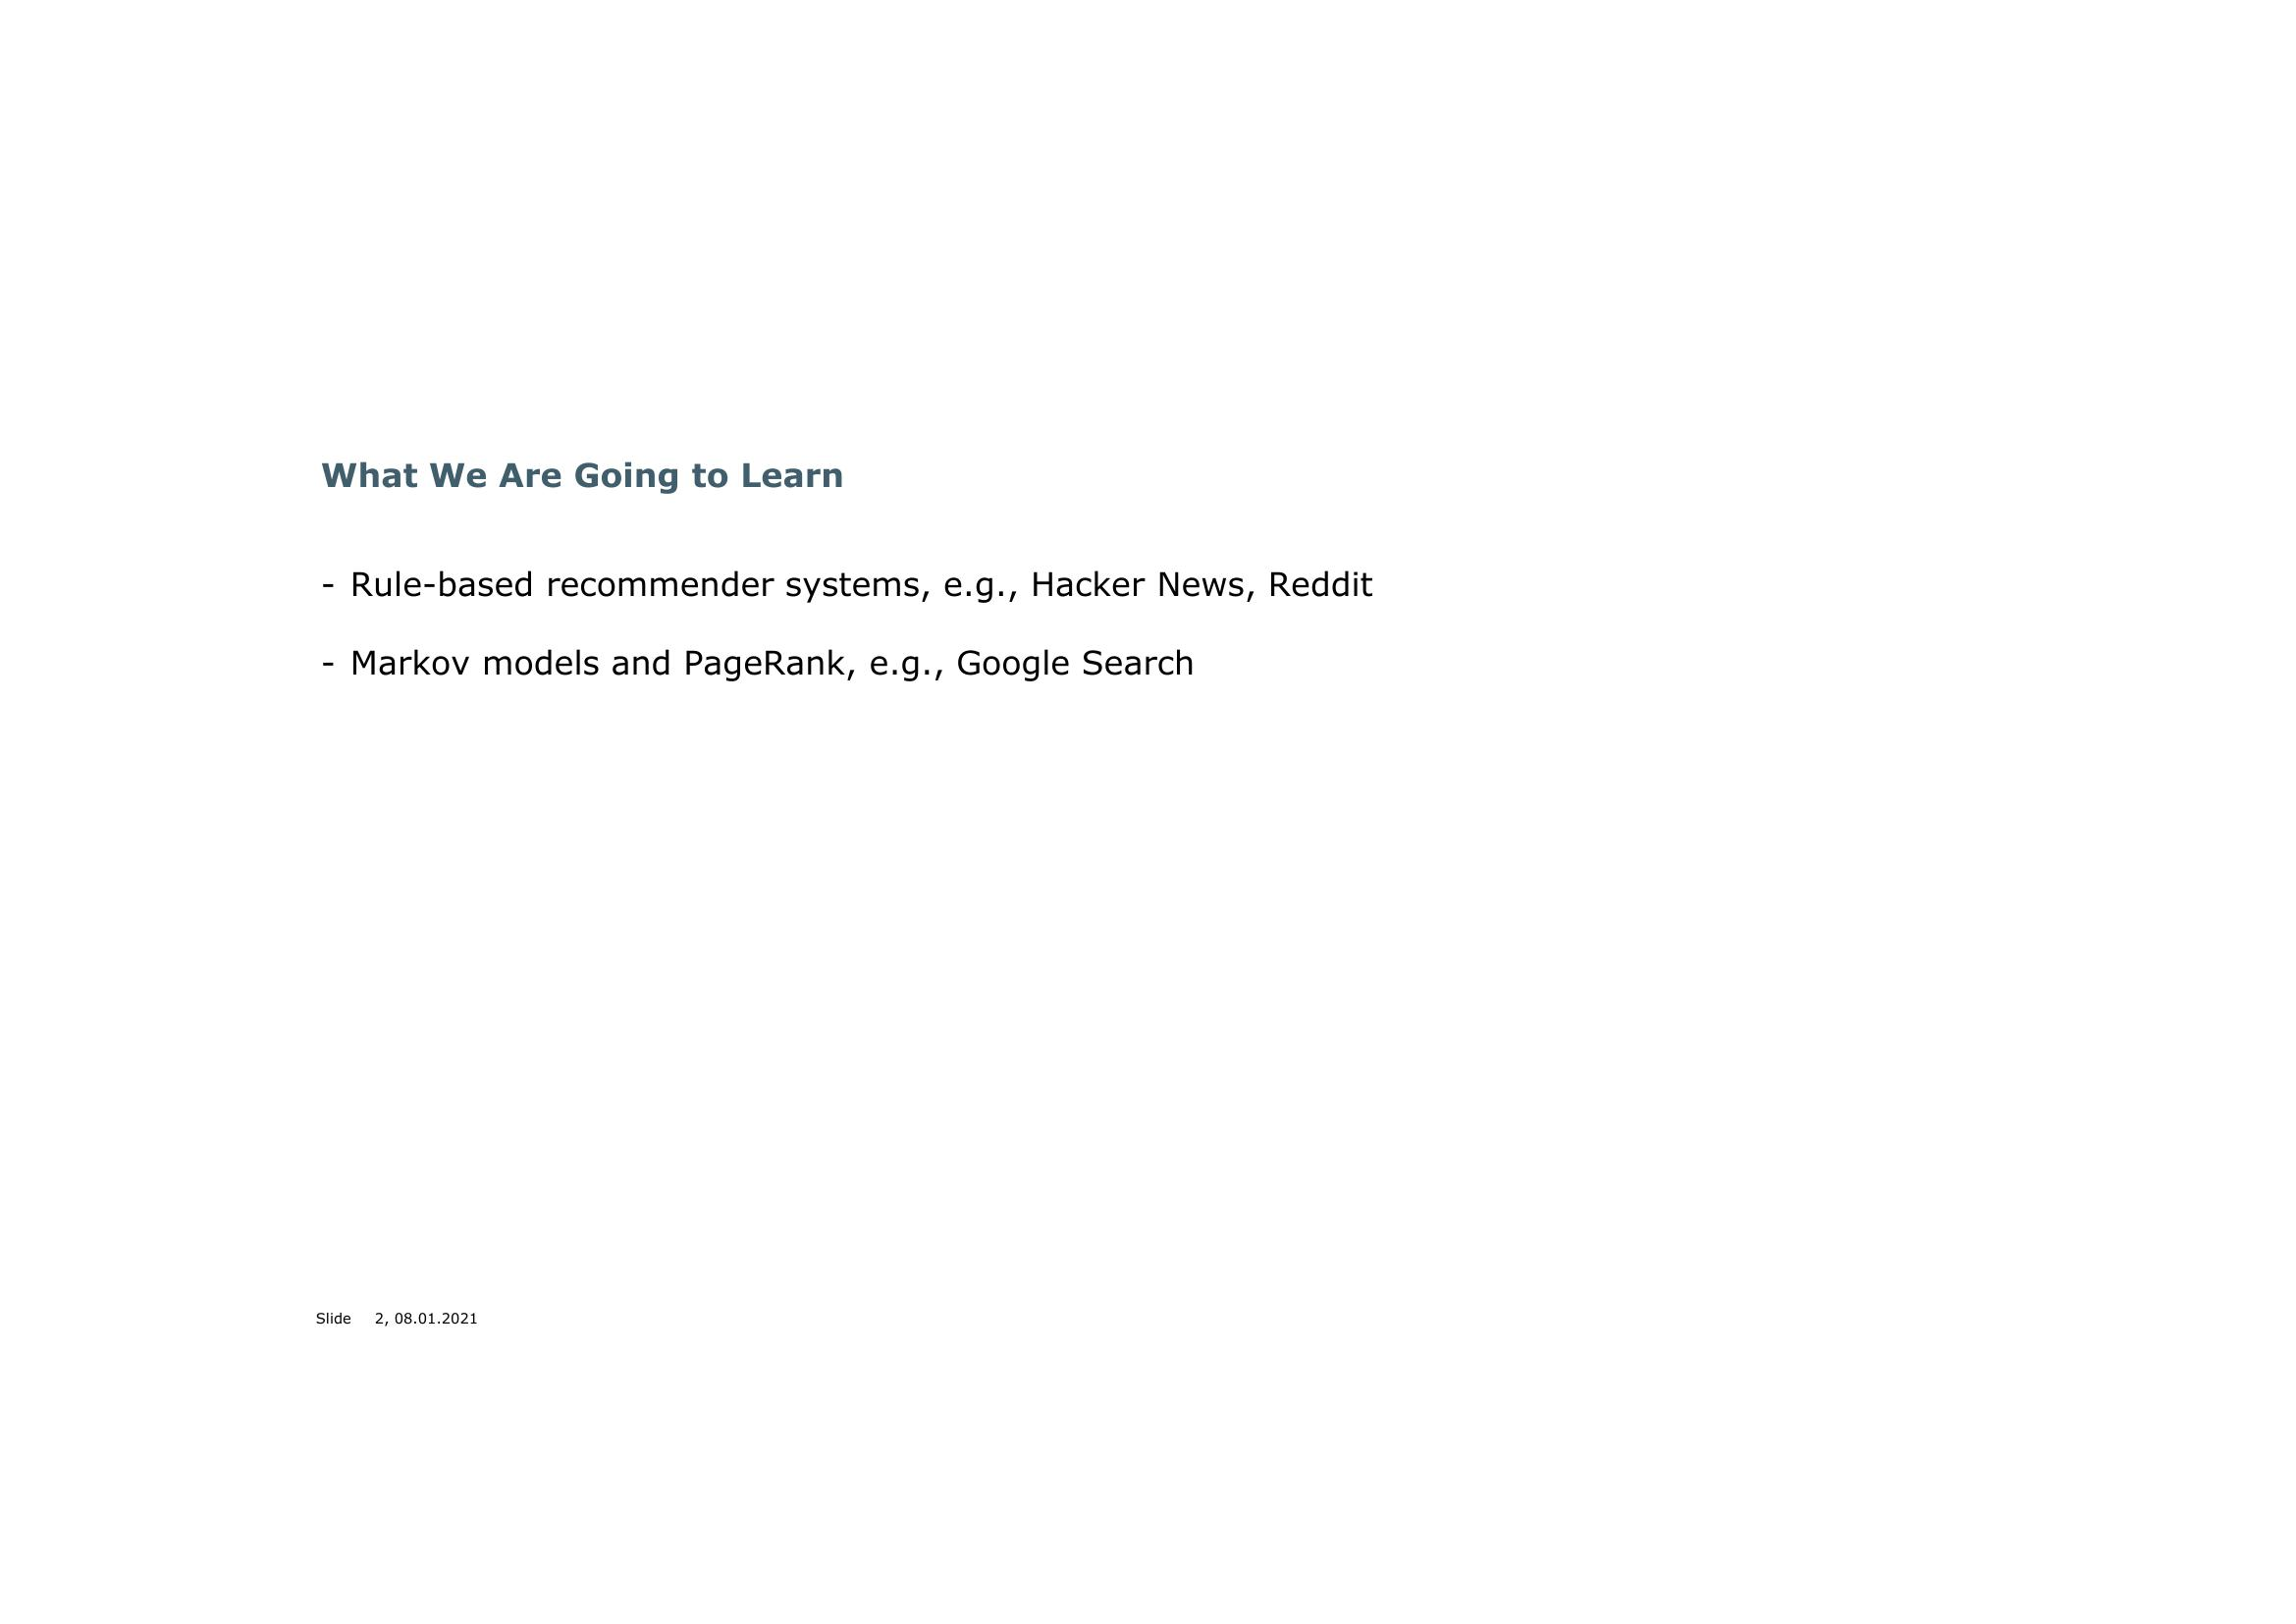Title: (302, 441, 866, 511)
